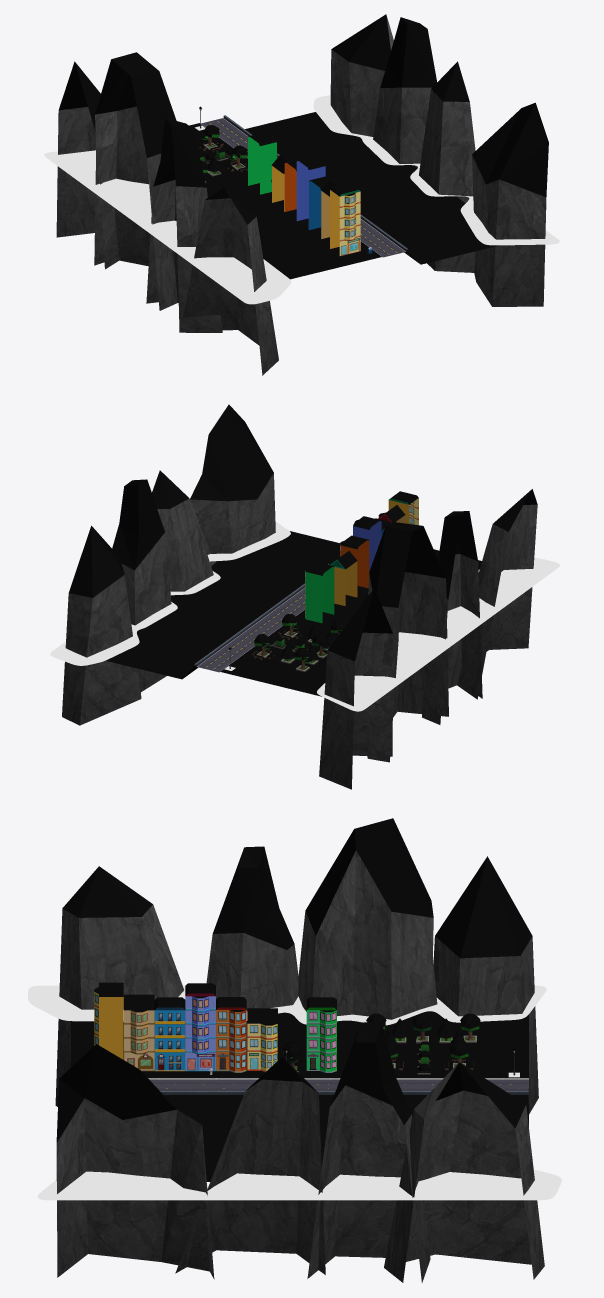
The model's file is citywinter_08.fbx.
3 renders of one model, top to bottom at view 1: azimuth 30°, elevation 25°; view 2: azimuth 150°, elevation 25°; view 3: azimuth 270°, elevation 25°, orthographic. The views are drawn at different scales.
Visible parts, largest first — view 1: City_08; view 2: City_08; view 3: City_08.
Boxes of the visible parts, x1=… form: City_08: x1=44, y1=14, x2=559, y2=375; City_08: x1=50, y1=404, x2=559, y2=789; City_08: x1=28, y1=818, x2=561, y2=1282.
Size of the model in its own units: 22617 by 13384 by 25170.
